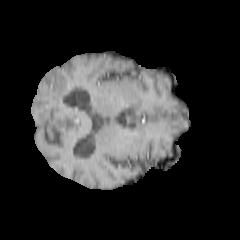glioma: (41, 73, 67, 104)
